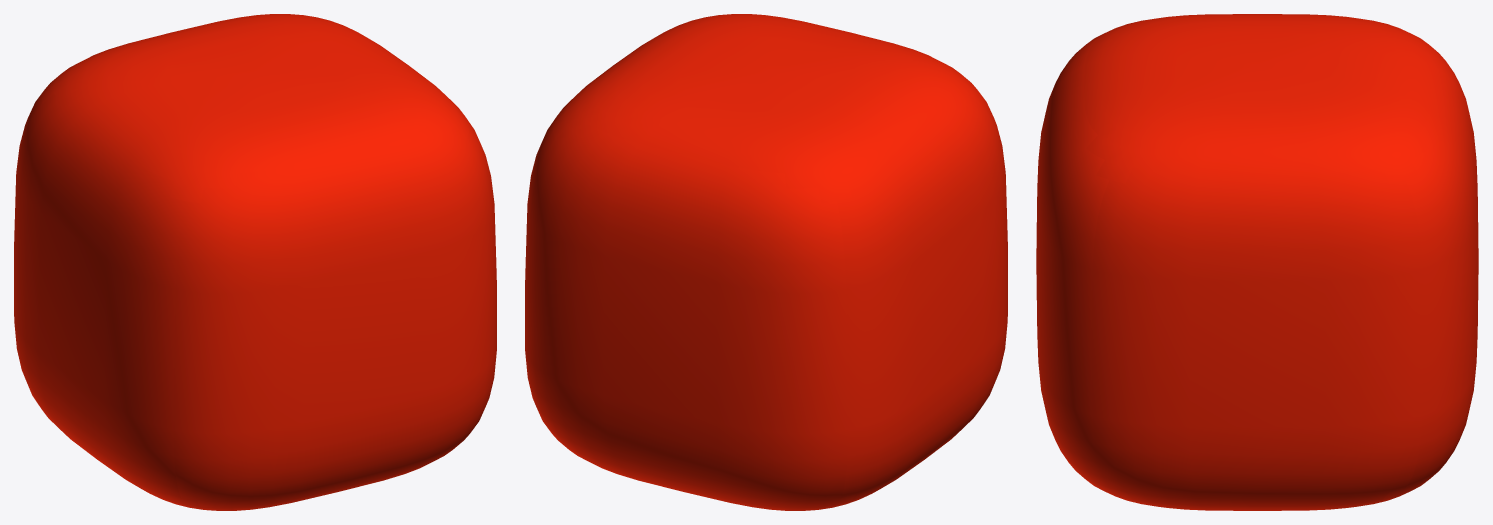
File: slime_red.glb
3 renders of one model, left to right at view 1: azimuth 30°, elevation 25°; view 2: azimuth 150°, elevation 25°; view 3: azimuth 270°, elevation 25°, orthographic. The views are drawn at different scales.
Parts seen in each view (by area): view 1: PlainCube_Red; view 2: PlainCube_Red; view 3: PlainCube_Red.
Boxes of the visible parts, box(x1,y1,x2,y2) form: PlainCube_Red: box(14, 14, 496, 510); PlainCube_Red: box(525, 14, 1007, 510); PlainCube_Red: box(1036, 14, 1478, 510).
Bounding box in the file's own units: 0.92 × 0.8968 × 0.92.
